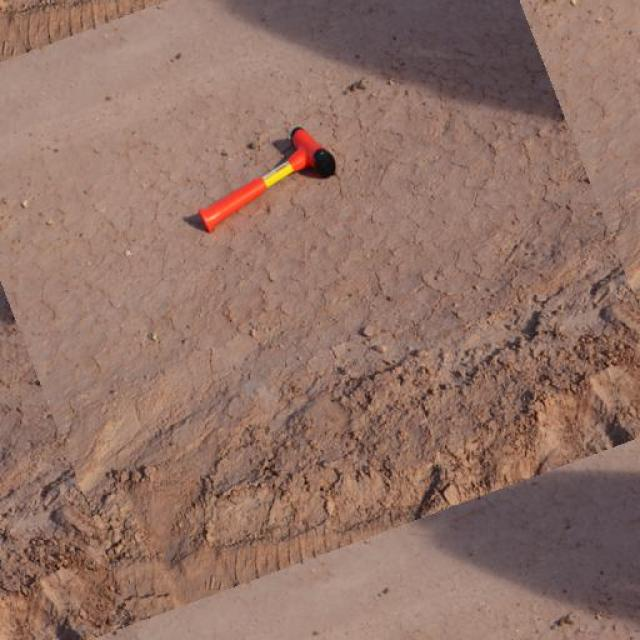mallet: (196, 125, 335, 233)
